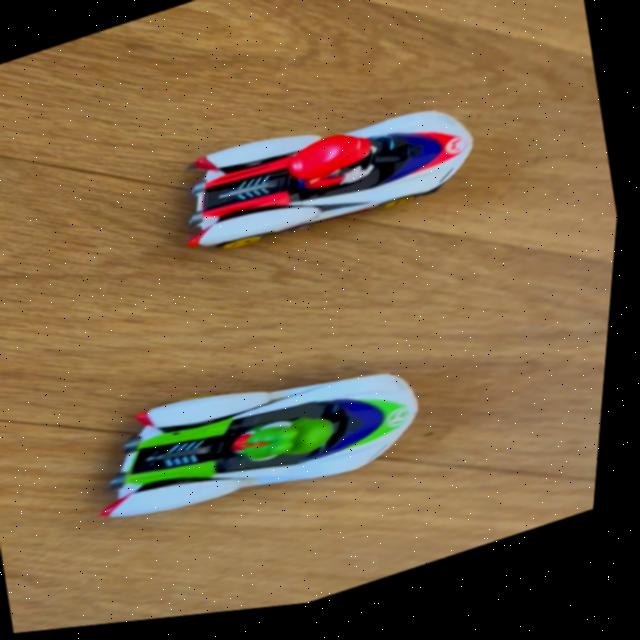mario: (146, 62, 512, 291)
yoshi: (77, 307, 465, 560)
